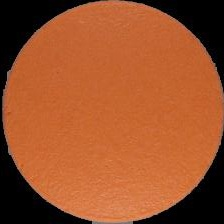35356-866: (0, 0, 224, 224)
